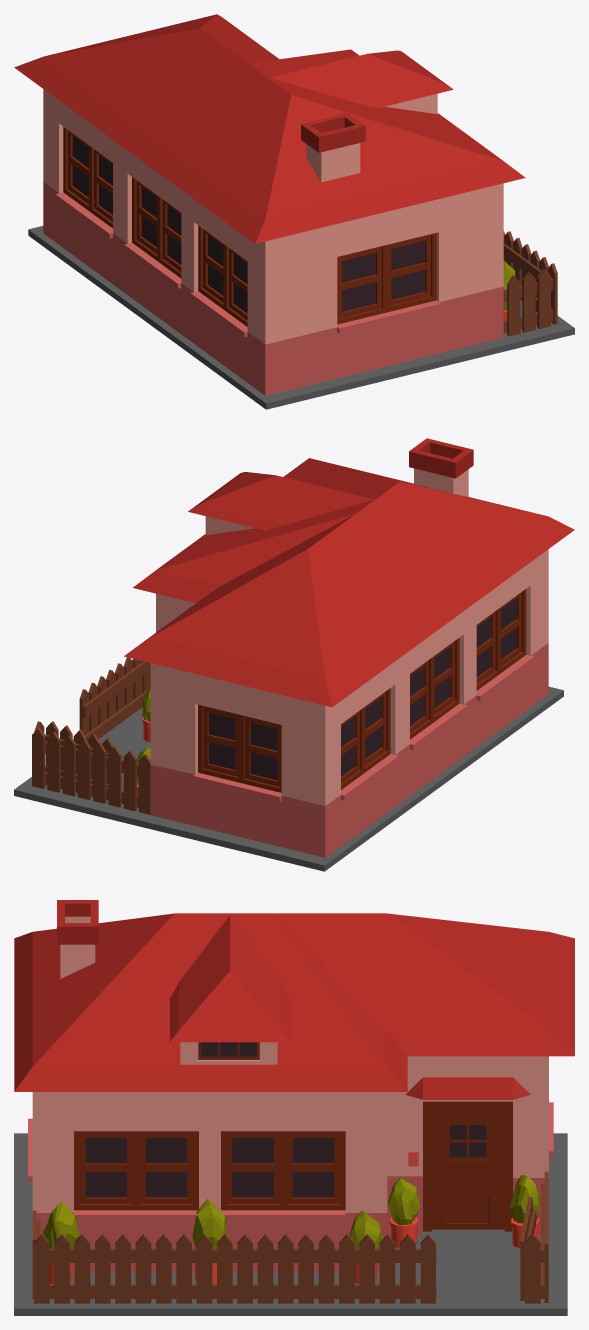
Rendered from house_3.glb.
3 views of the same model, one above another, from view 1: azimuth 30°, elevation 25°; view 2: azimuth 150°, elevation 25°; view 3: azimuth 270°, elevation 25° (orthographic). The views are drawn at different scales.
Visible parts, largest first — view 1: PublicBuilding_5; view 2: PublicBuilding_5; view 3: PublicBuilding_5.
Part boxes in pixels (x1,y1,x2,y2): PublicBuilding_5: (14,14,574,409); PublicBuilding_5: (14,438,574,871); PublicBuilding_5: (14,900,574,1315).
Bounding box in the file's own units: 3.68 × 2.66 × 4.81.
1 material, 1 textured.
